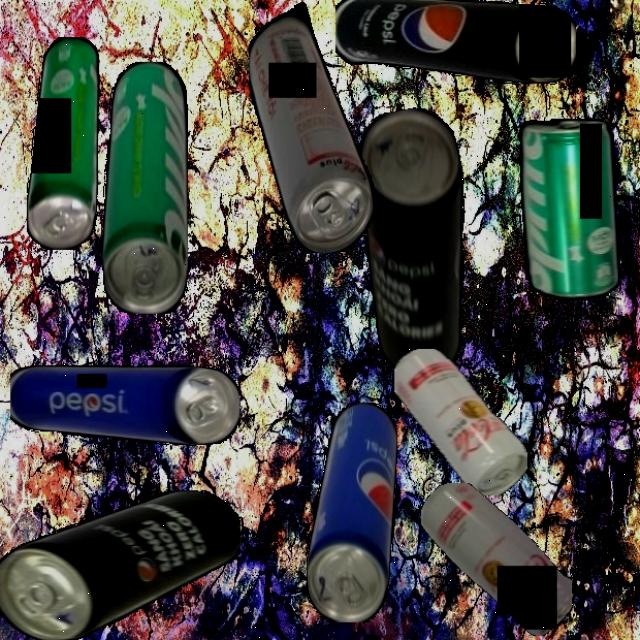debris: (341, 102, 496, 386), (0, 489, 241, 640), (248, 1, 374, 253), (421, 482, 572, 636), (101, 61, 188, 314), (304, 402, 398, 622), (334, 0, 576, 85), (394, 348, 528, 495), (9, 365, 240, 446), (518, 119, 618, 300), (26, 36, 101, 250)
